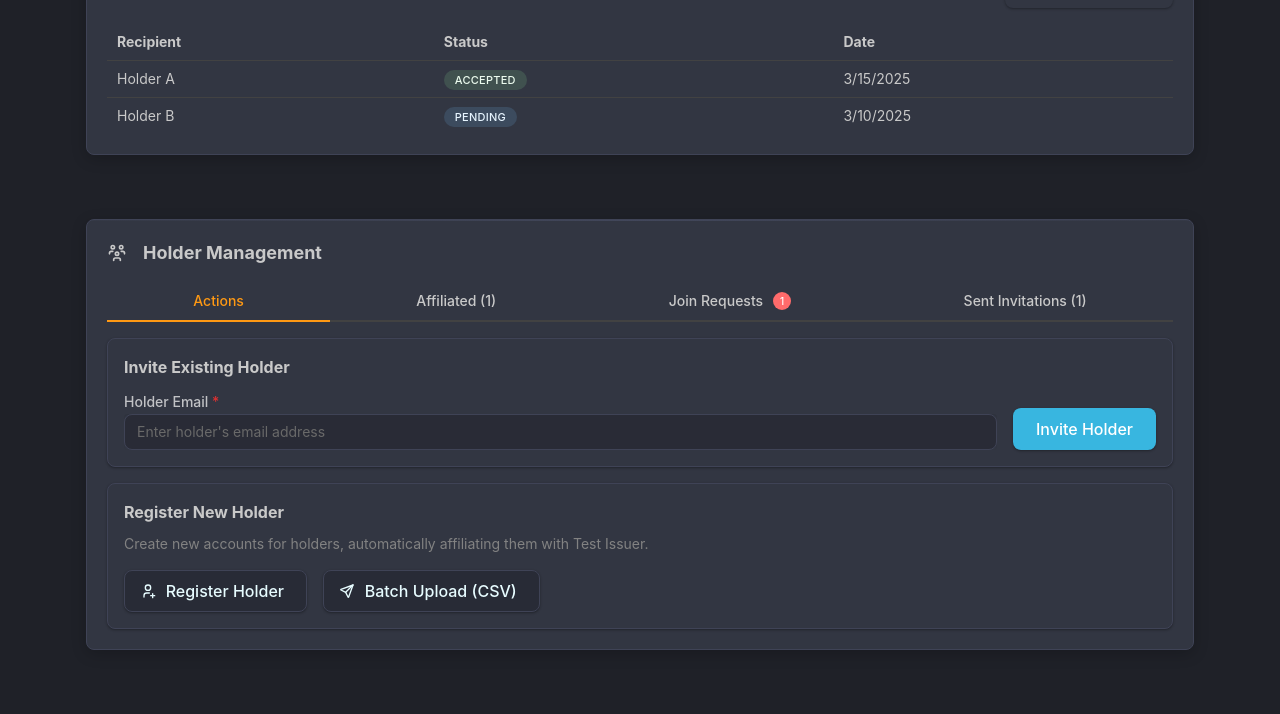
Test: ManageIssuer component › can open the register holder modal and validate form
(page scrolled)
Note: Click the register holder button
Click the button "Register Holder": {"x": 216, "y": 591} [124,570,307,612]
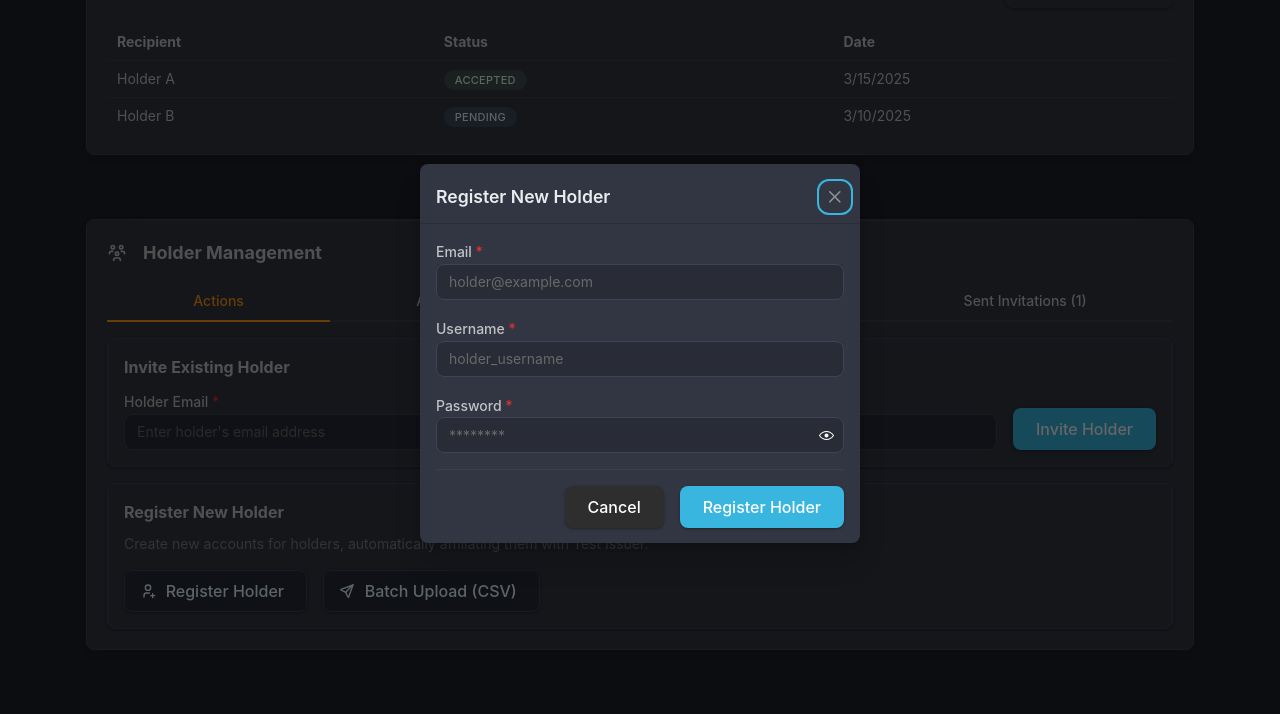
Expected: the dialog is shown, [420,164,860,544]
Expected: the heading "Register New Holder" is shown, [436,188,610,206]
Note: Fill in invalid email (missing @ symbol)
In the field labelled "Email *": {"x": 640, "y": 282} [436,264,844,300], type "invalidemail"
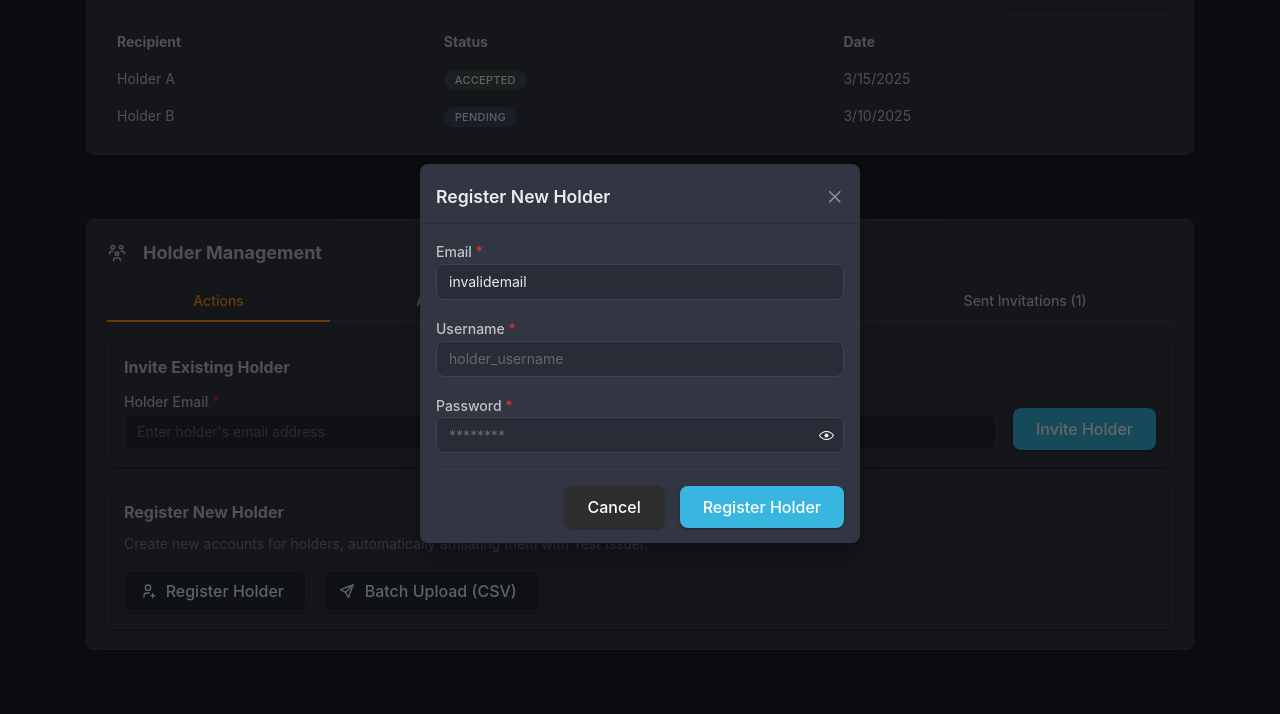
In the field labelled "Username *": {"x": 640, "y": 359} [436,341,844,377], type "us"
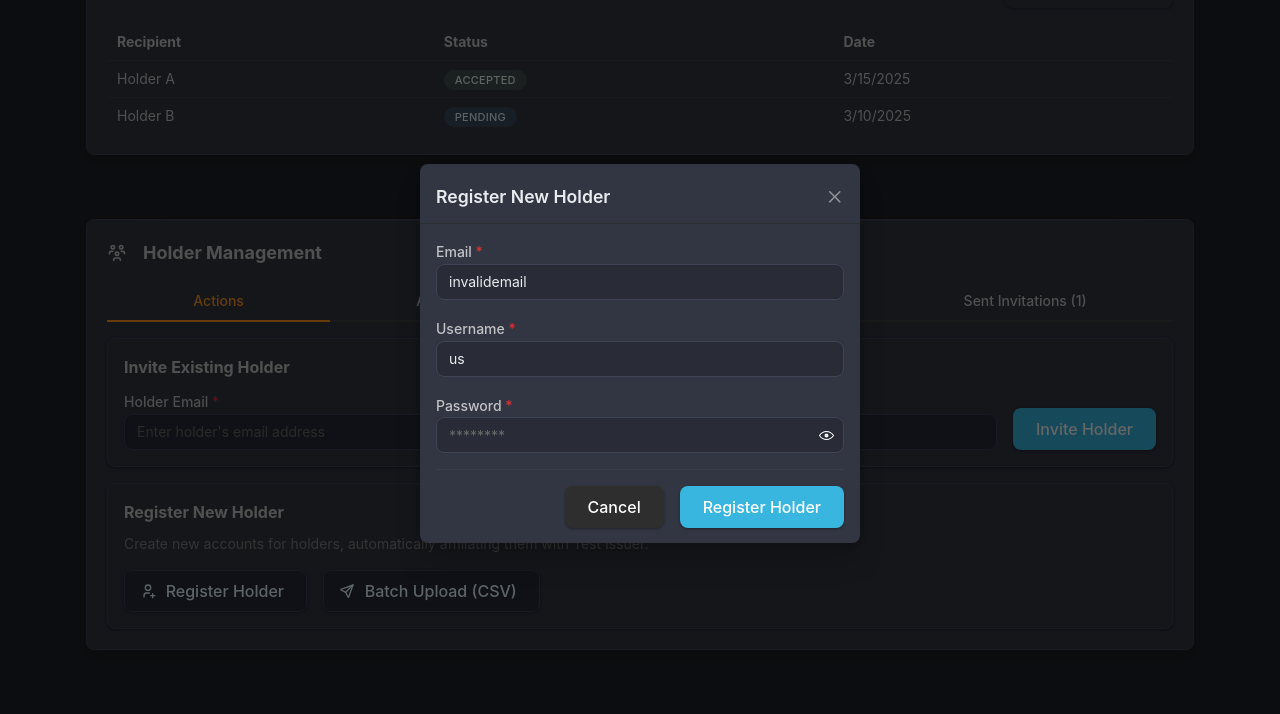
In the password field labelled "Password *": {"x": 640, "y": 436} [437,419,843,453], type "short"
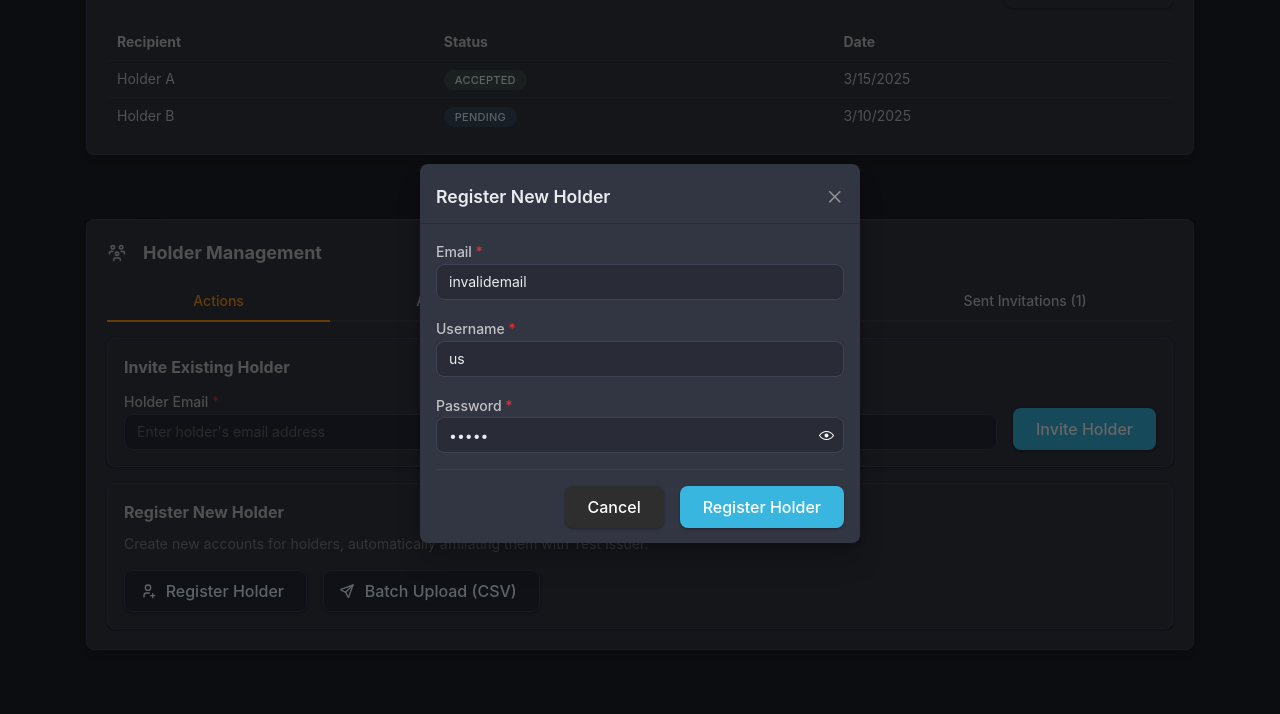
Note: Try to submit
Click the button "Register Holder": {"x": 762, "y": 508} [680,487,844,529]
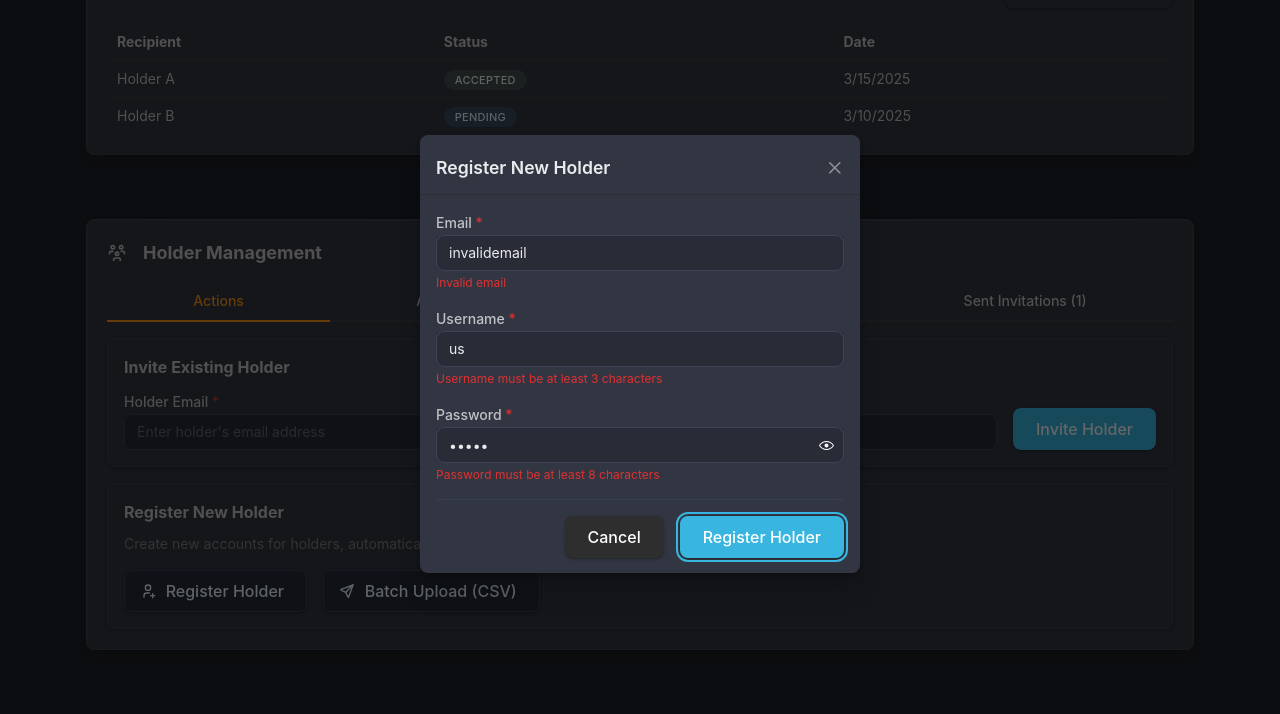
Expected: the text "Invalid email" is shown, [436,275,506,290]
Expected: the text "Username must be at least 3 characters" is shown, [436,371,662,386]
Expected: the text "Password must be at least 8 characters" is shown, [436,467,660,482]
